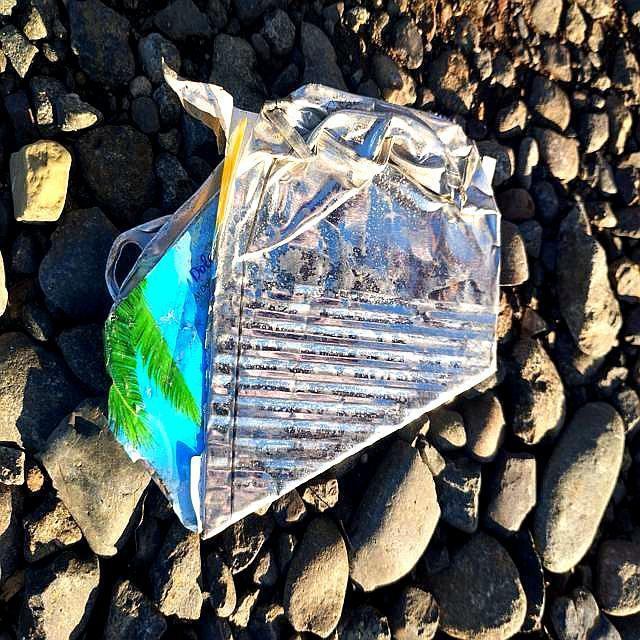Non-biodegradable: (102, 61, 506, 541)
